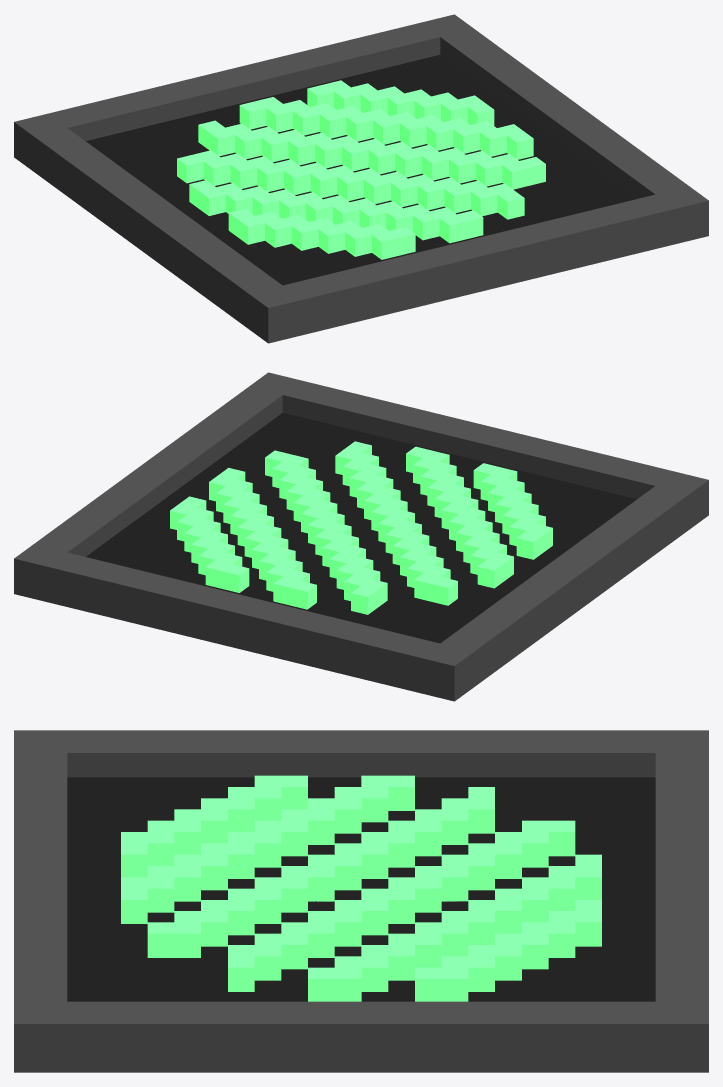
File: trap_GRILL_GREEN.glb
The picture shows the model from 3 angles, top to bottom: view 1: azimuth 30°, elevation 25°; view 2: azimuth 150°, elevation 25°; view 3: azimuth 270°, elevation 25°; orthographic projection. The views are drawn at different scales.
Parts seen in each view (by area): view 1: item_TRAP_GRILL_GREEN; view 2: item_TRAP_GRILL_GREEN; view 3: item_TRAP_GRILL_GREEN.
Boxes of the visible parts, x1,y1,x2,y2 form: item_TRAP_GRILL_GREEN: (14, 14, 708, 343); item_TRAP_GRILL_GREEN: (14, 372, 708, 701); item_TRAP_GRILL_GREEN: (14, 730, 708, 1072).
Bounding box in the file's own units: 0.5909 × 0.0455 × 0.5909.
Materials: 1 (1 with a texture image).
